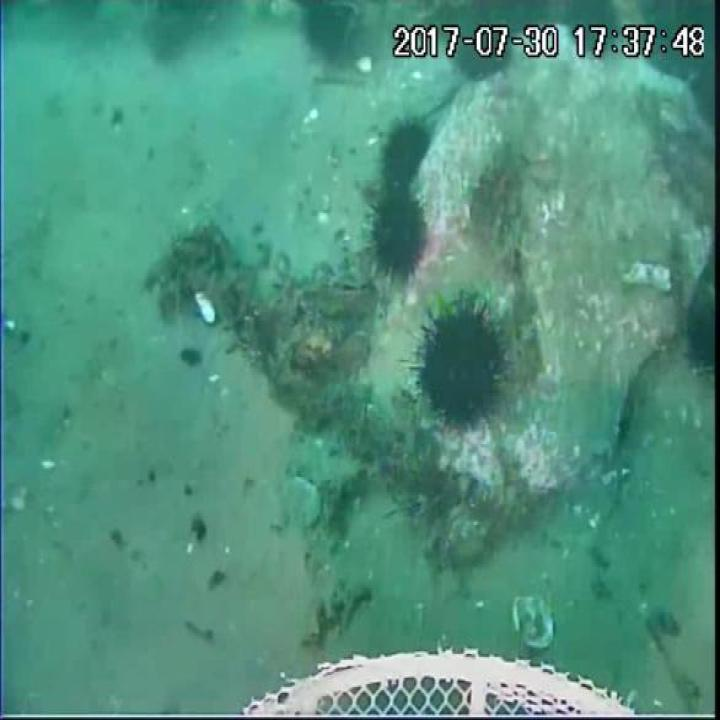echinus: (419, 304, 511, 430), (365, 188, 432, 284), (378, 118, 432, 192), (452, 21, 511, 87), (298, 3, 358, 66), (564, 0, 622, 57), (683, 297, 720, 378)
